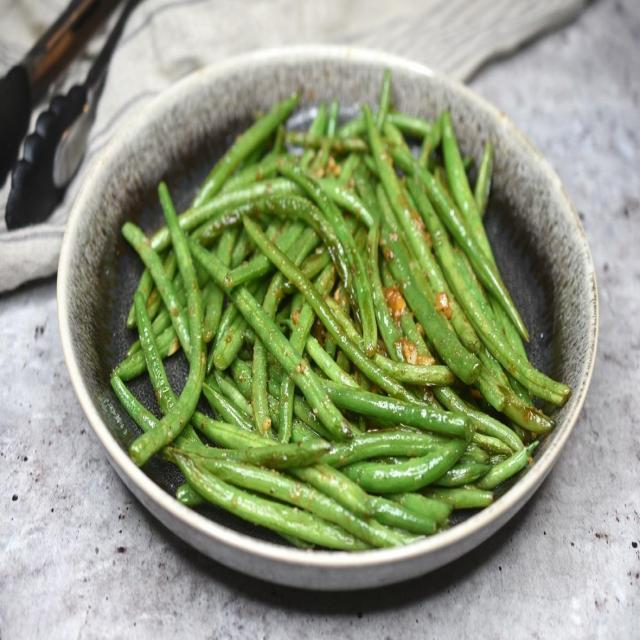Beans: (109, 83, 577, 552)
